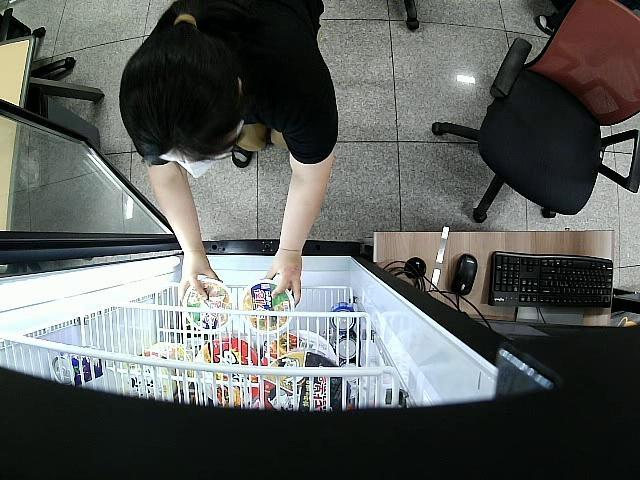09_yukGaeJang: (184, 276, 234, 331), (242, 281, 294, 333)
